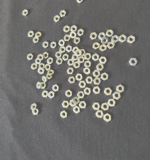nut: (96, 110, 105, 119), (129, 58, 139, 66), (104, 113, 112, 123), (128, 35, 136, 44), (113, 92, 122, 100), (108, 99, 117, 107), (102, 103, 110, 112), (112, 35, 120, 43), (117, 85, 125, 93), (93, 103, 101, 111), (105, 88, 113, 96), (101, 73, 109, 81), (101, 37, 109, 45), (100, 44, 108, 52), (90, 32, 98, 40), (97, 63, 105, 71), (93, 70, 101, 78), (93, 87, 101, 95), (84, 88, 92, 96), (79, 101, 87, 109), (79, 81, 87, 89), (62, 101, 70, 109), (98, 33, 107, 40), (120, 35, 127, 43), (108, 42, 116, 49), (100, 57, 108, 64), (93, 43, 101, 50), (93, 54, 100, 62), (94, 78, 102, 85), (84, 67, 91, 75), (86, 77, 94, 84), (77, 92, 85, 99), (73, 97, 80, 105), (74, 37, 81, 45), (67, 68, 75, 75), (60, 10, 67, 18), (54, 15, 61, 23), (61, 111, 68, 119), (66, 90, 73, 98), (64, 25, 71, 33), (66, 45, 73, 53), (107, 30, 114, 37), (78, 29, 85, 36), (85, 53, 92, 60), (85, 61, 92, 68), (70, 100, 77, 107), (79, 49, 86, 56), (78, 57, 85, 64), (76, 74, 83, 81), (74, 62, 81, 69), (76, 50, 83, 57), (73, 47, 80, 54), (72, 54, 79, 61), (68, 59, 75, 66), (69, 77, 76, 84), (71, 25, 78, 32), (70, 32, 77, 39), (64, 35, 71, 42), (59, 40, 66, 47), (56, 58, 63, 65), (35, 32, 42, 39), (52, 85, 59, 92), (42, 91, 49, 98), (31, 104, 38, 111), (47, 58, 54, 65), (46, 73, 53, 80), (27, 54, 34, 61), (38, 68, 45, 75), (31, 63, 38, 70), (74, 106, 80, 114), (56, 51, 62, 59), (43, 41, 49, 49), (49, 91, 55, 99), (38, 54, 44, 62), (63, 54, 69, 61), (60, 46, 66, 53), (51, 42, 57, 49), (28, 31, 34, 38), (33, 109, 39, 116), (43, 52, 49, 59), (48, 70, 54, 77), (45, 64, 51, 71), (42, 76, 48, 83), (41, 82, 47, 89), (36, 58, 42, 65), (33, 37, 39, 43), (39, 63, 45, 69), (37, 82, 42, 89), (23, 10, 28, 16), (77, 0, 84, 4)
